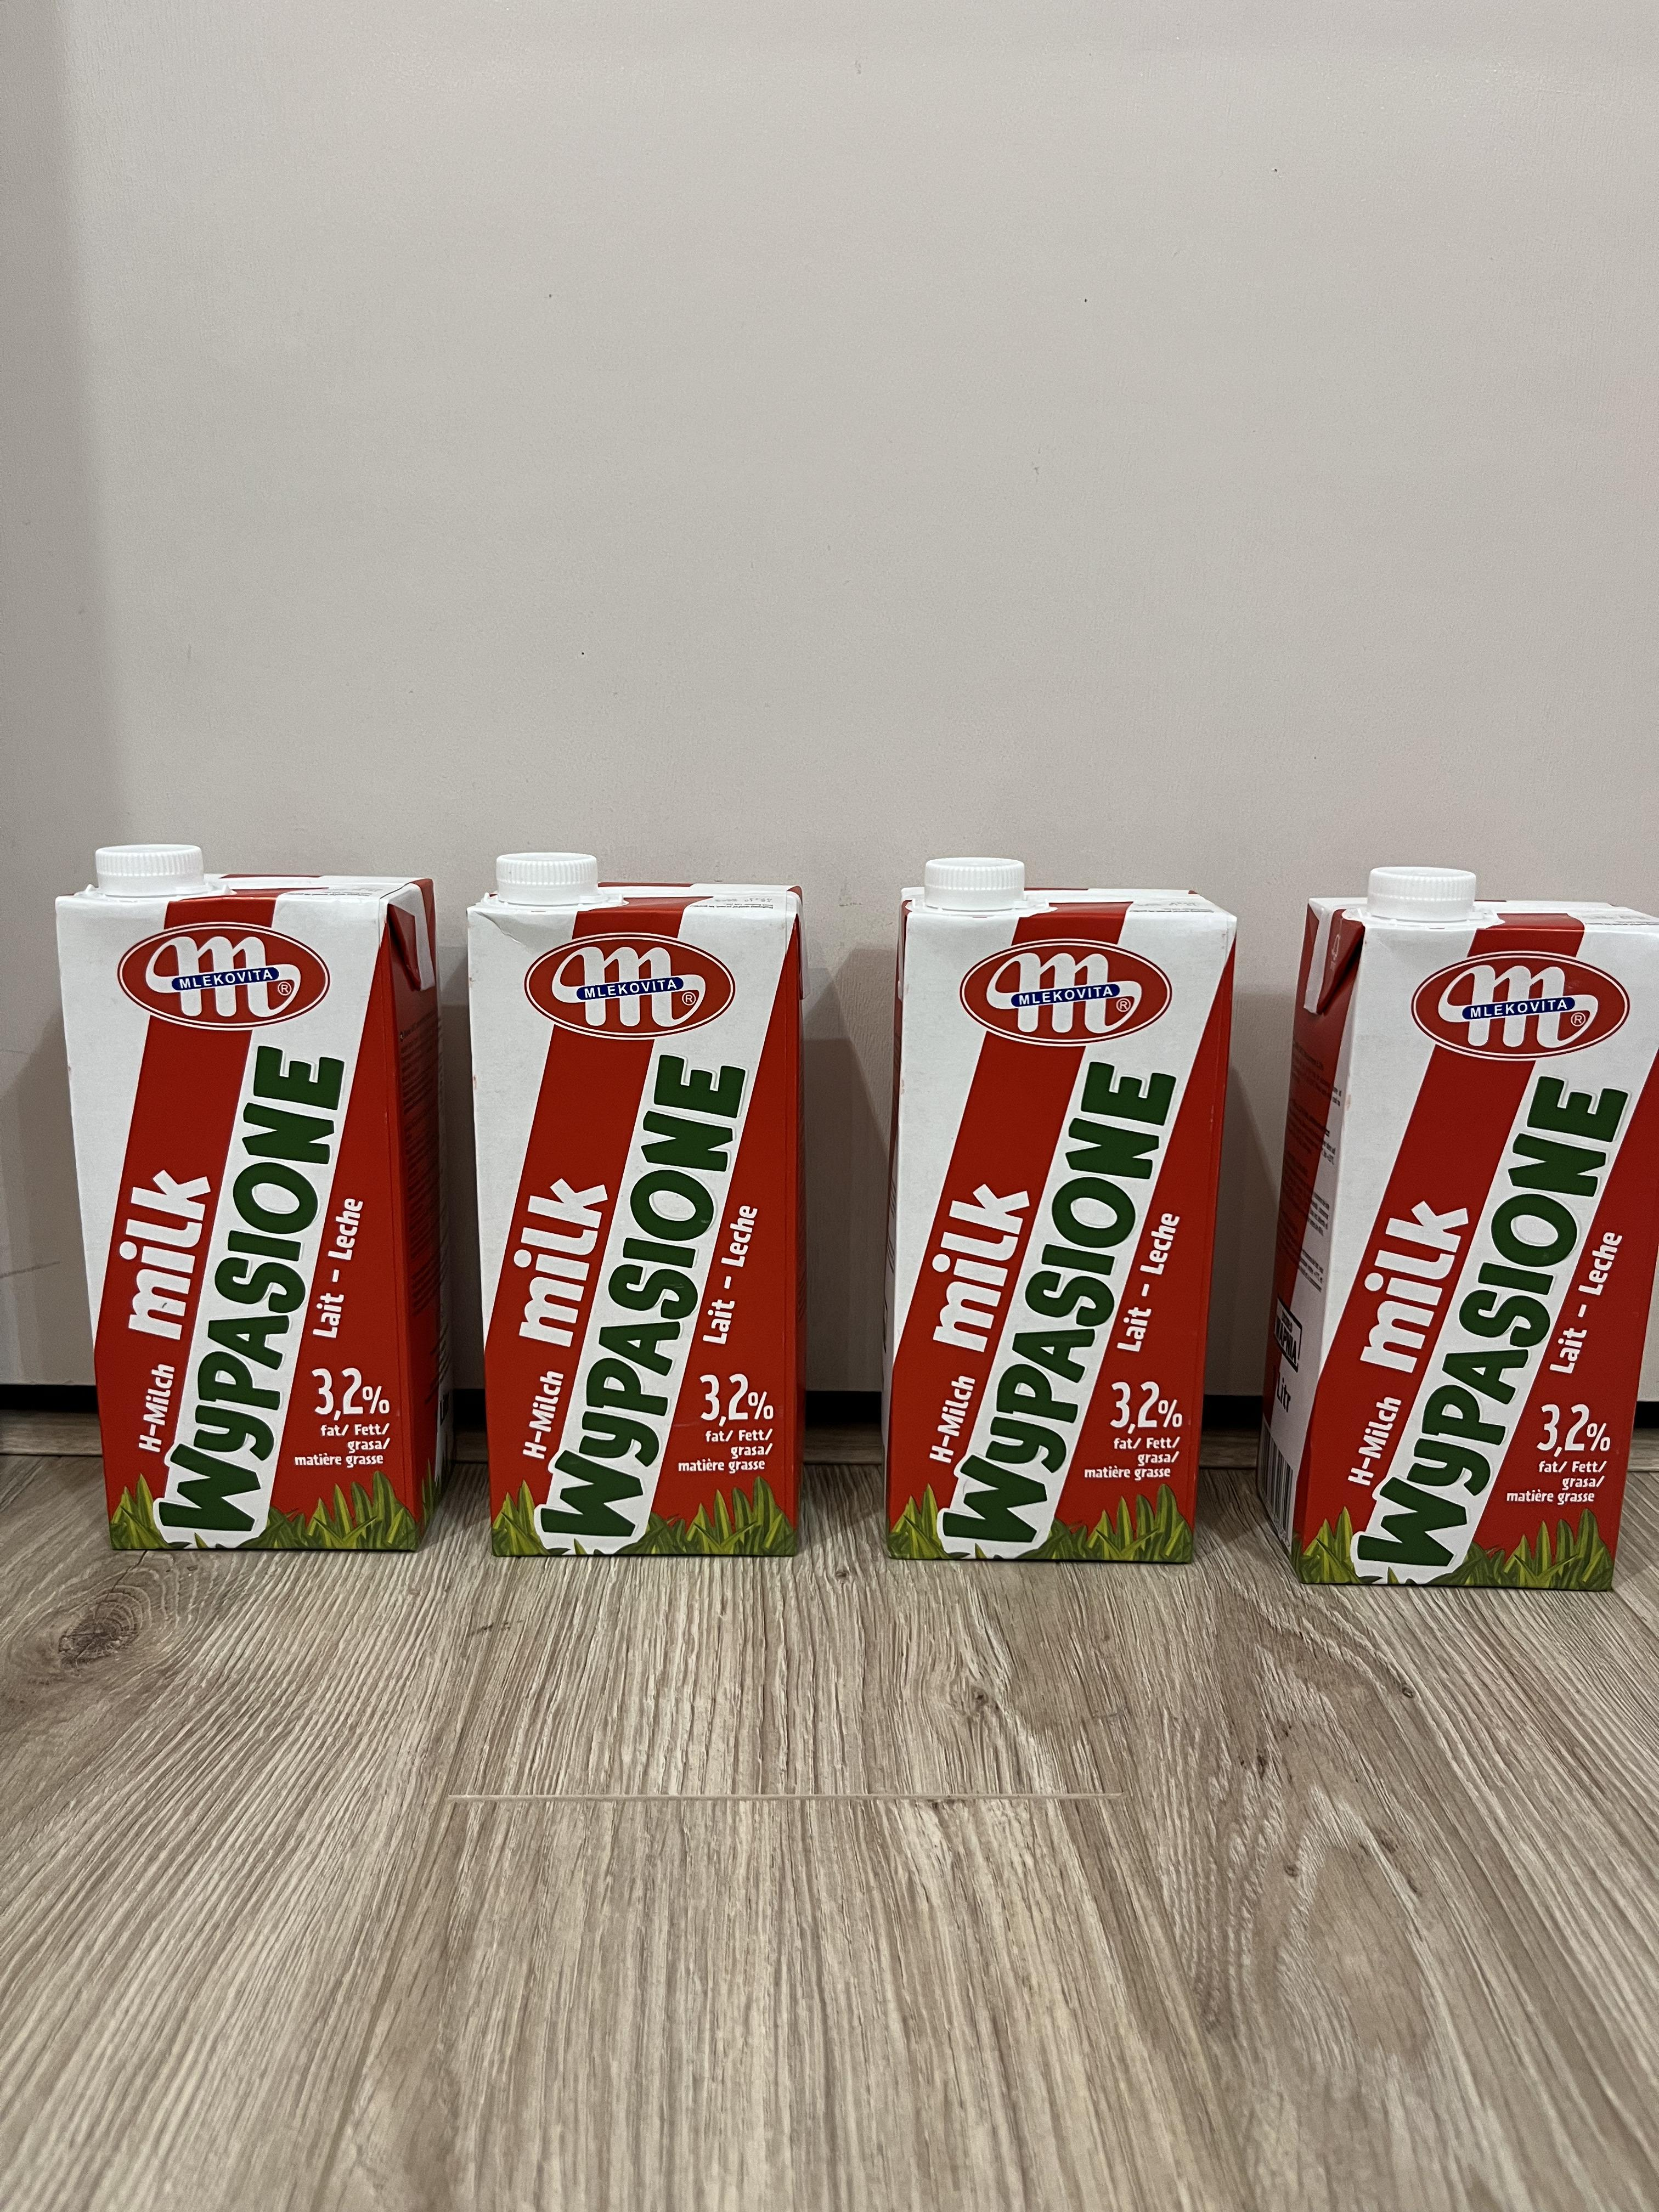Milk: (73, 873, 436, 1538), (471, 867, 809, 1550), (1305, 900, 1619, 1588), (910, 890, 1208, 1573)
